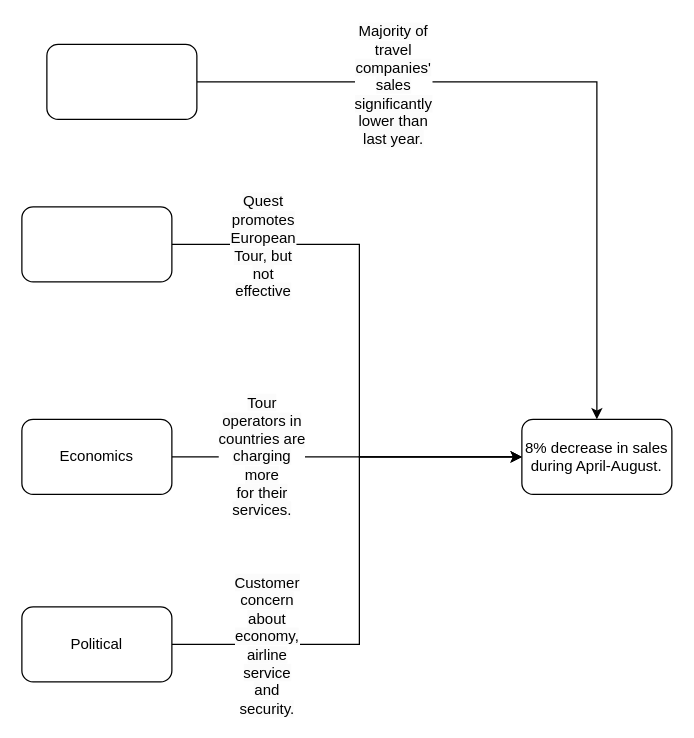
Image size: 694x738. Some labels were removed from this diagram. Here are the shapes that lost their labels. From the top down, the box of each, then its label:
(46, 43, 197, 119): Competition
(21, 206, 172, 282): Marketing
